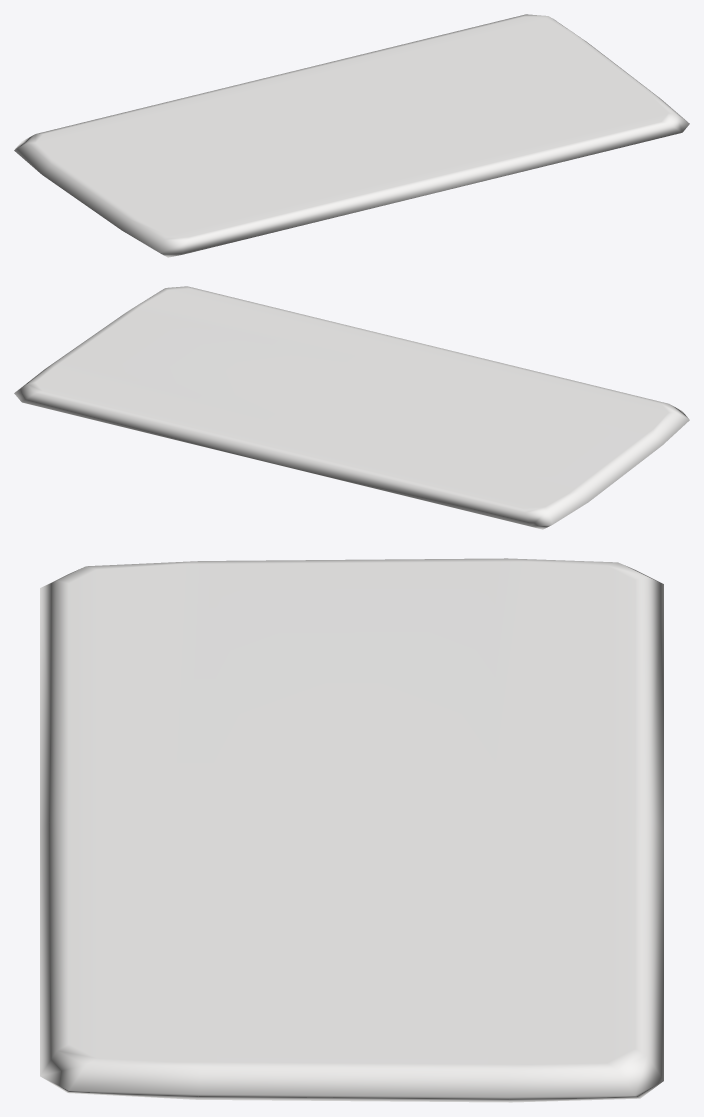
The model's file is P_RugSmallClassic.glb.
The picture shows the model from 3 angles, top to bottom: view 1: azimuth 30°, elevation 25°; view 2: azimuth 150°, elevation 25°; view 3: azimuth 270°, elevation 25°; orthographic projection. The views are drawn at different scales.
Visible parts, largest first — view 1: P_RugSmallClassic; view 2: P_RugSmallClassic; view 3: P_RugSmallClassic.
Part boxes in pixels (left/top/right/bottom): P_RugSmallClassic: left=14, top=14, right=689, bottom=257; P_RugSmallClassic: left=14, top=286, right=689, bottom=529; P_RugSmallClassic: left=40, top=558, right=663, bottom=1102.
Size of the model in its own units: 1.51 by 0.0405 by 0.75.
1 material, 1 textured.
